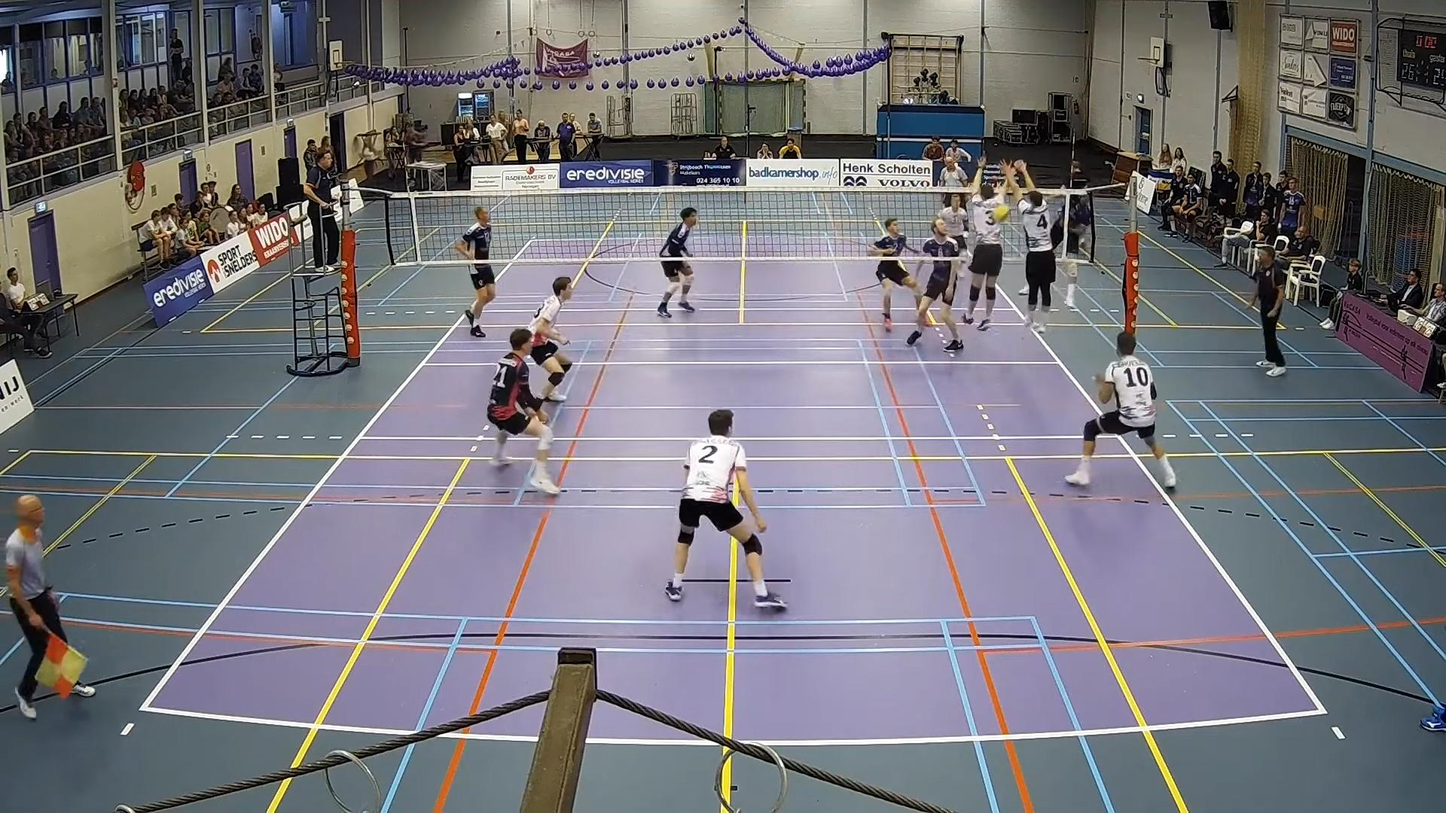attacco: (1043, 171, 1098, 317)
muro: (962, 164, 1016, 336), (1006, 156, 1060, 328)
